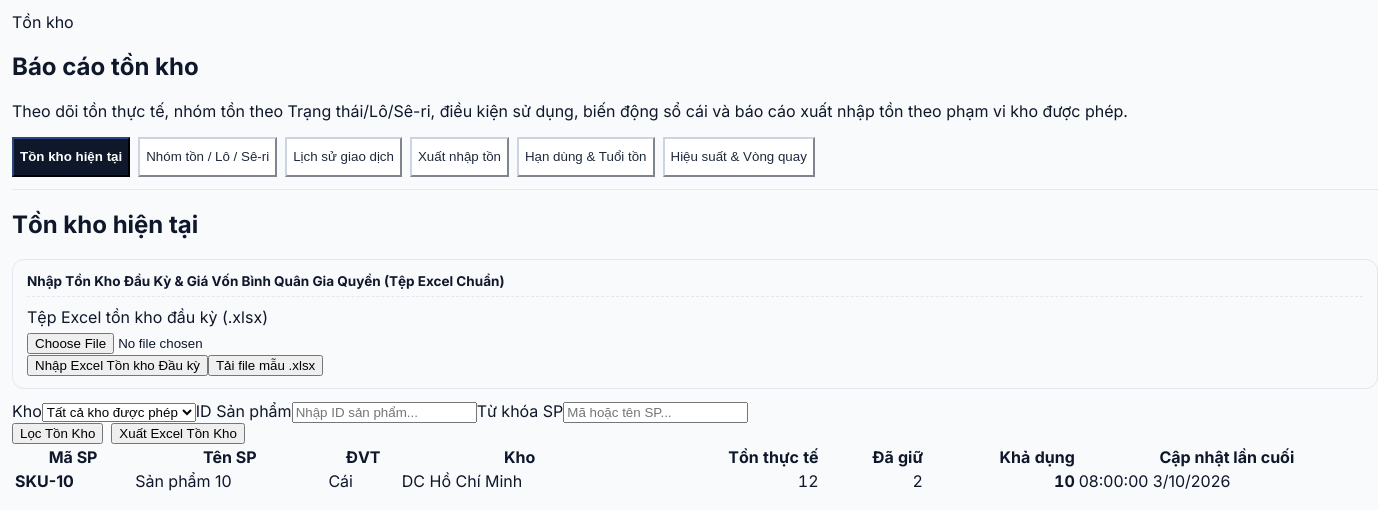
Scenario: Inventory shared production UI › renders semantic tabs and keeps all three inventory views reachable
Expected: the text "SKU-10" is shown, [15,471,74,491]
Expected: the table named "Tồn kho hiện tại" is shown, [12,444,1377,494]
Click the tab "Nhóm tồn / Lô / Sê-ri" at (208, 157), box [138,137,277,177]
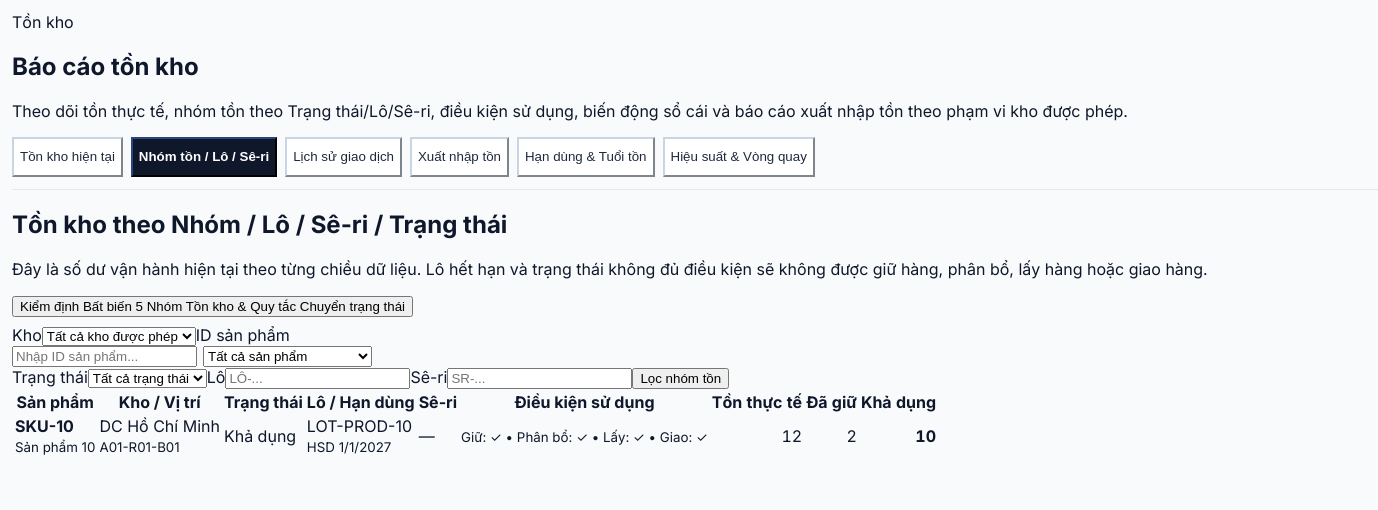
Now the table named "Nhóm tồn kho" is shown, box [12,389,939,459]
Now the text "LOT-PROD-10" is shown, box [307,416,412,436]
Click the tab "Lịch sử giao dịch" at (344, 157), box [285,137,402,177]
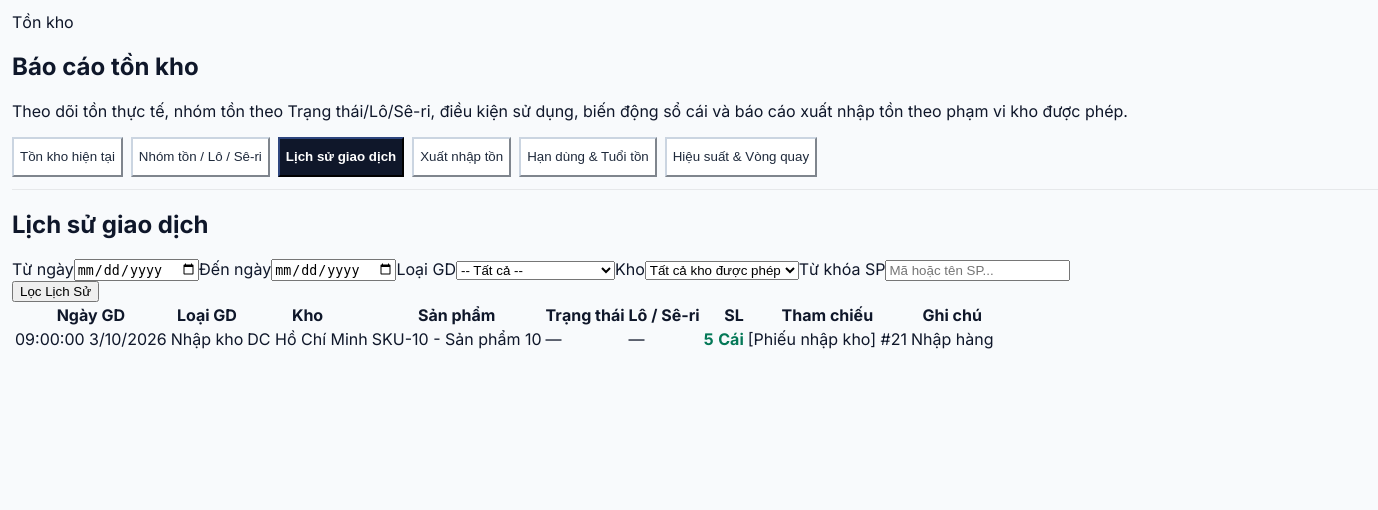
Now the table named "Lịch sử giao dịch tồn kho" is shown, box [12,302,996,352]
Now the text "Nhập hàng" is shown, box [910,328,994,350]
Click the tab "Xuất nhập tồn" at (462, 157), box [412,137,511,177]
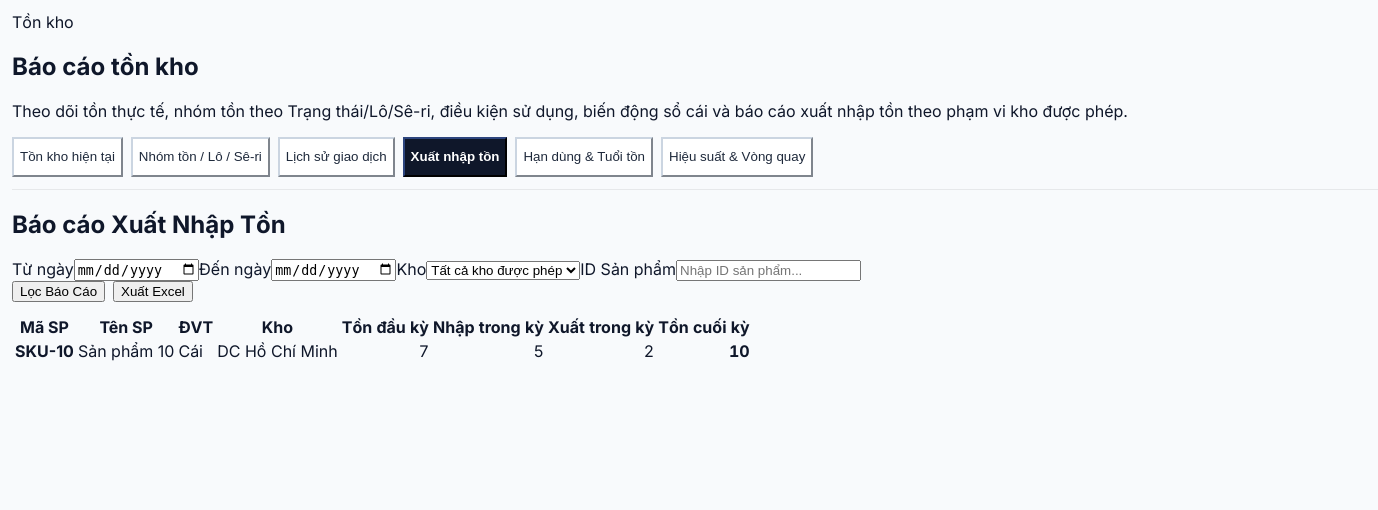
Now the table named "Báo cáo xuất nhập tồn" is shown, box [12,314,753,364]
Now the text "7" is shown, box [341,340,430,362]
